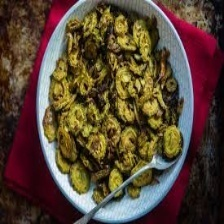sabzi: (31, 0, 193, 207)
